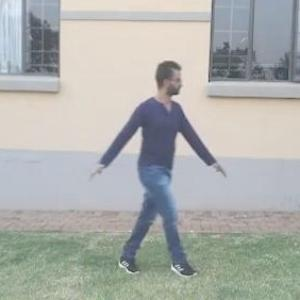land: (94, 70, 224, 242)
